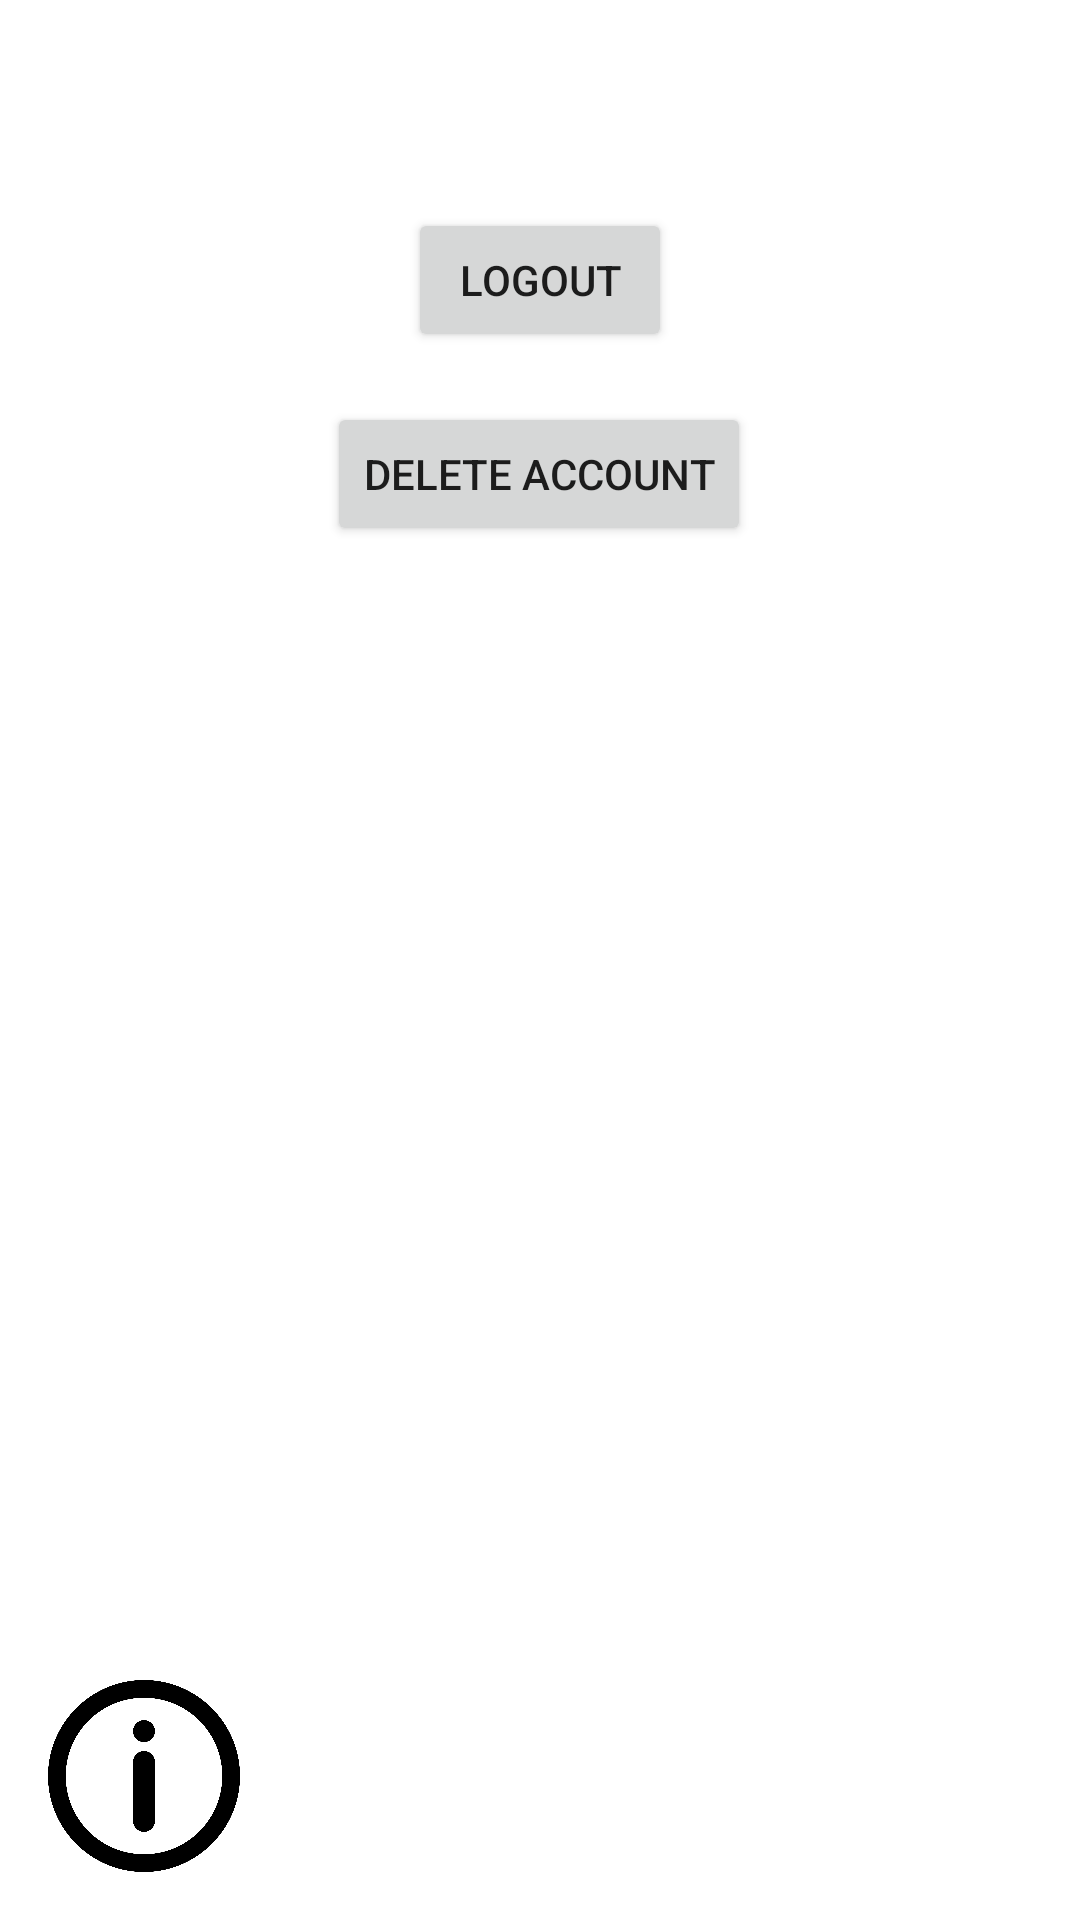

Screen size 1080 × 1920. Icon name, then its box in pixels as (x1, y1, x2, y2):
info: (48, 1680, 240, 1872)
